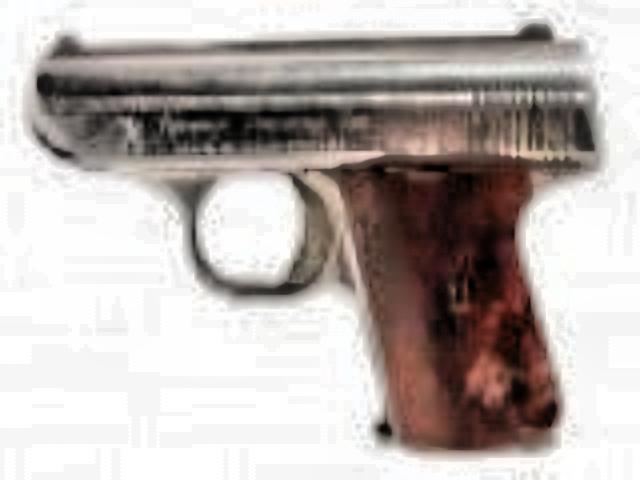pistol: (40, 16, 608, 452)
